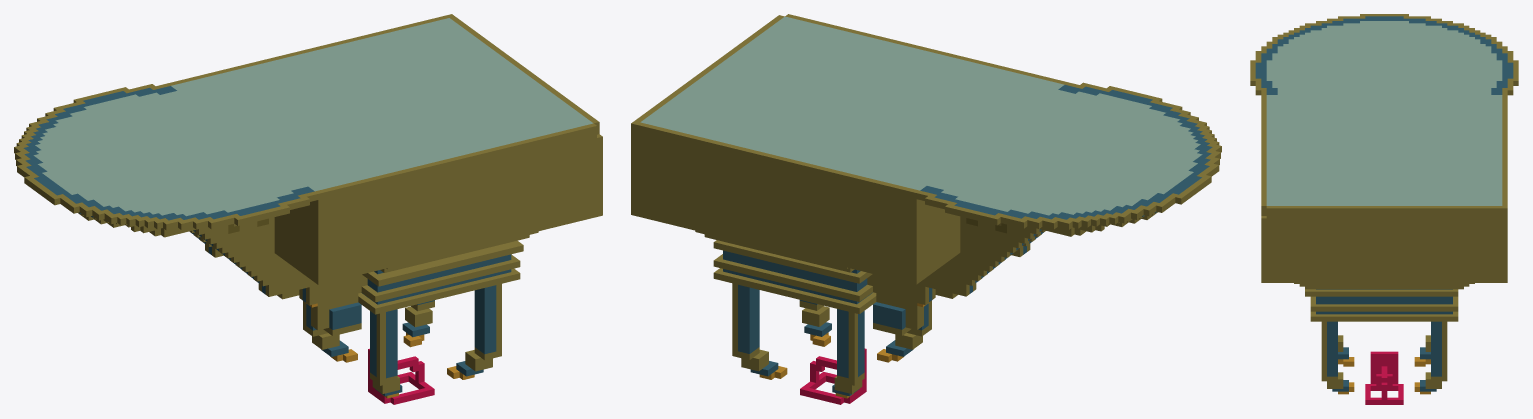
File: Matsumoto5.fbx
3 views of the same model, side by side, from view 1: azimuth 30°, elevation 25°; view 2: azimuth 150°, elevation 25°; view 3: azimuth 270°, elevation 25° (orthographic). The views are drawn at different scales.
Visible parts, largest first — view 1: palette; view 2: palette; view 3: palette.
Part boxes in pixels (bbox=[...]): palette: bbox=[14, 14, 602, 404]; palette: bbox=[631, 14, 1221, 404]; palette: bbox=[1250, 14, 1518, 404].
Bounding box in the file's own units: 84 × 48 × 49.
1 material, 1 textured.
